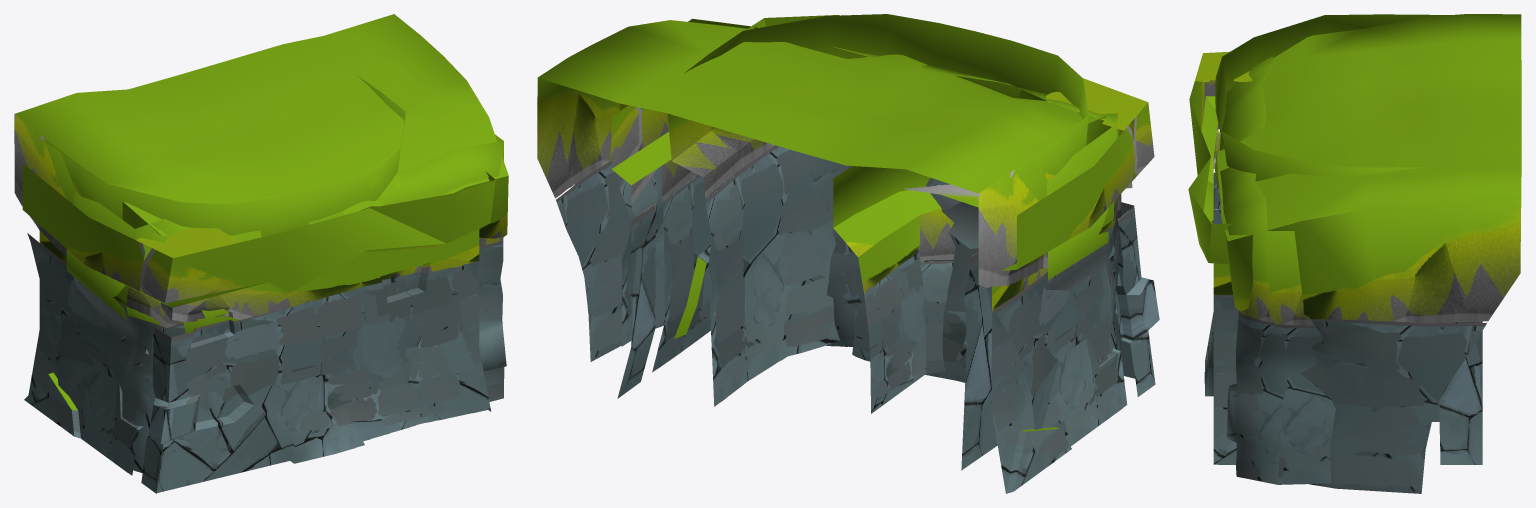
File: rocks_walls.fbx
3 renders of one model, left to right at view 1: azimuth 30°, elevation 25°; view 2: azimuth 150°, elevation 25°; view 3: azimuth 270°, elevation 25°, orthographic. The views are drawn at different scales.
Parts seen in each view (by area): view 1: Plane, r_wall02, r_wall01, r_wall03, r_wall04; view 2: r_wall02, r_wall03, Plane, r_wall04, r_wall01; view 3: r_wall02, r_wall01, Plane, r_wall03.
Part boxes in pixels (x1,y1,x2,y2): Plane: (22,163,495,493); r_wall02: (14,14,508,396); r_wall01: (74,134,506,473); r_wall03: (41,75,405,237); r_wall04: (66,249,238,333); r_wall02: (537,20,1111,429); r_wall03: (667,14,1088,470); Plane: (611,15,1159,493); r_wall04: (833,166,1115,413); r_wall01: (619,18,1121,365); r_wall02: (1217,14,1521,493); r_wall01: (1218,56,1335,484); Plane: (1188,51,1482,464); r_wall03: (1215,14,1450,421).
Bounding box in the file's own units: 7.07 × 4.84 × 4.96.
